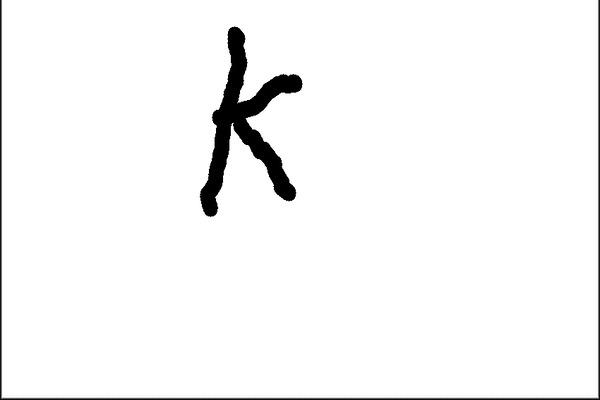K: (194, 19, 308, 220)
